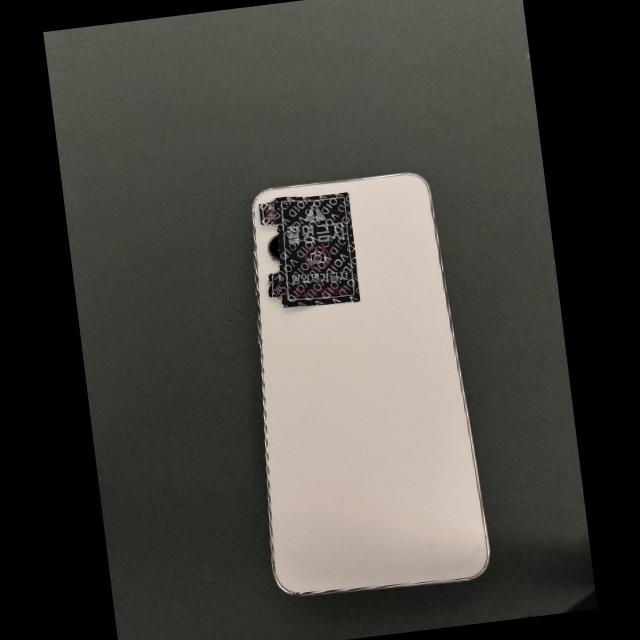lens: (269, 235, 280, 263)
phone: (252, 172, 488, 595)
sticker: (274, 192, 360, 308), (258, 201, 276, 225), (268, 273, 282, 297)
